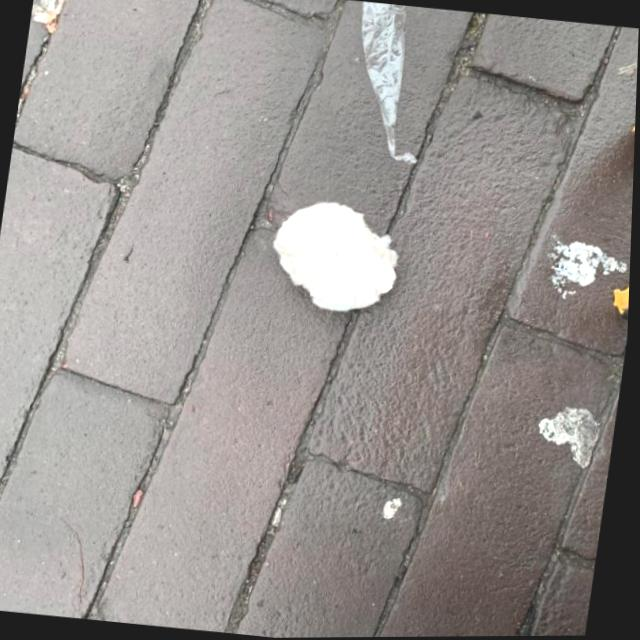Paper: (262, 190, 410, 317)
